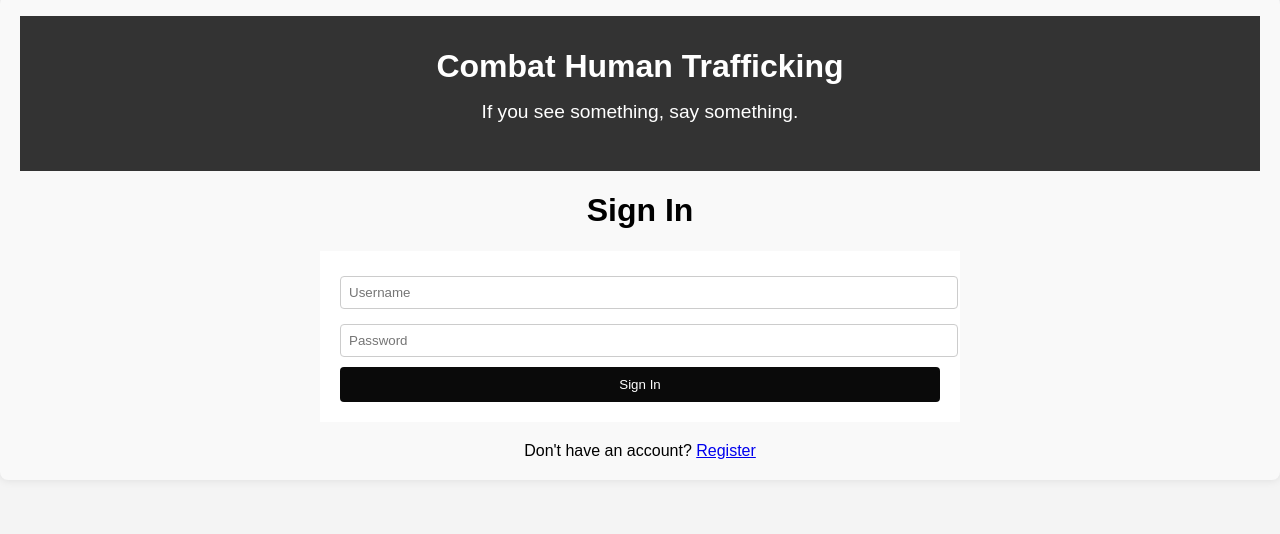
Test case: SignIn › shows error message on invalid credentials
Type "testuser" into the field with placeholder "Username" at (649, 292), box x1=340 y1=276 x2=958 y2=309
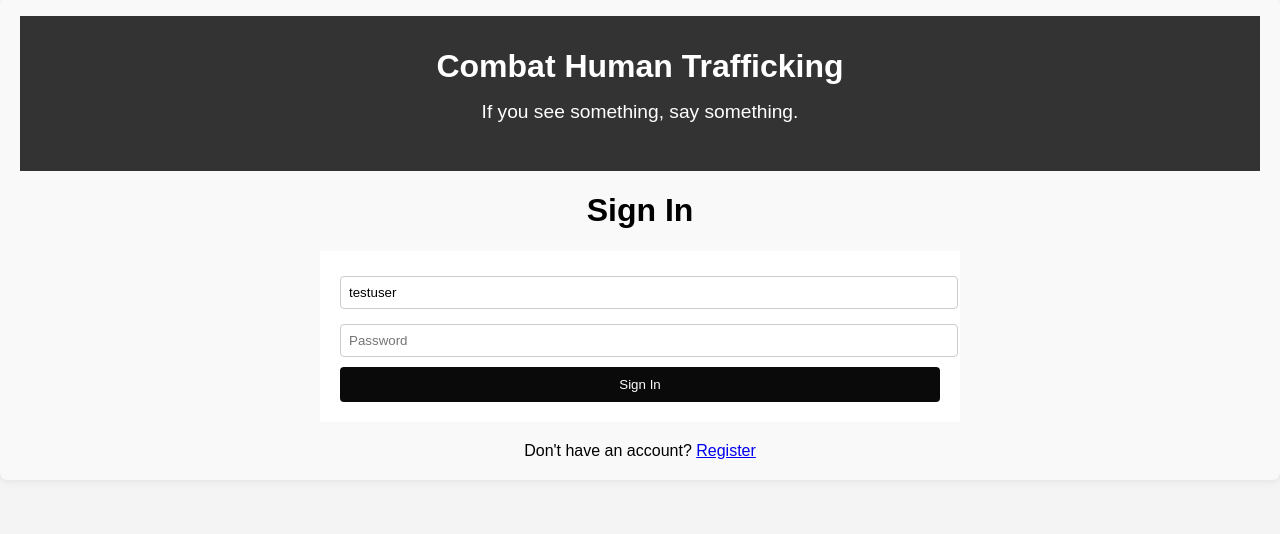
Type "password" into the password field with placeholder "Password" at (649, 340), box x1=340 y1=324 x2=958 y2=357
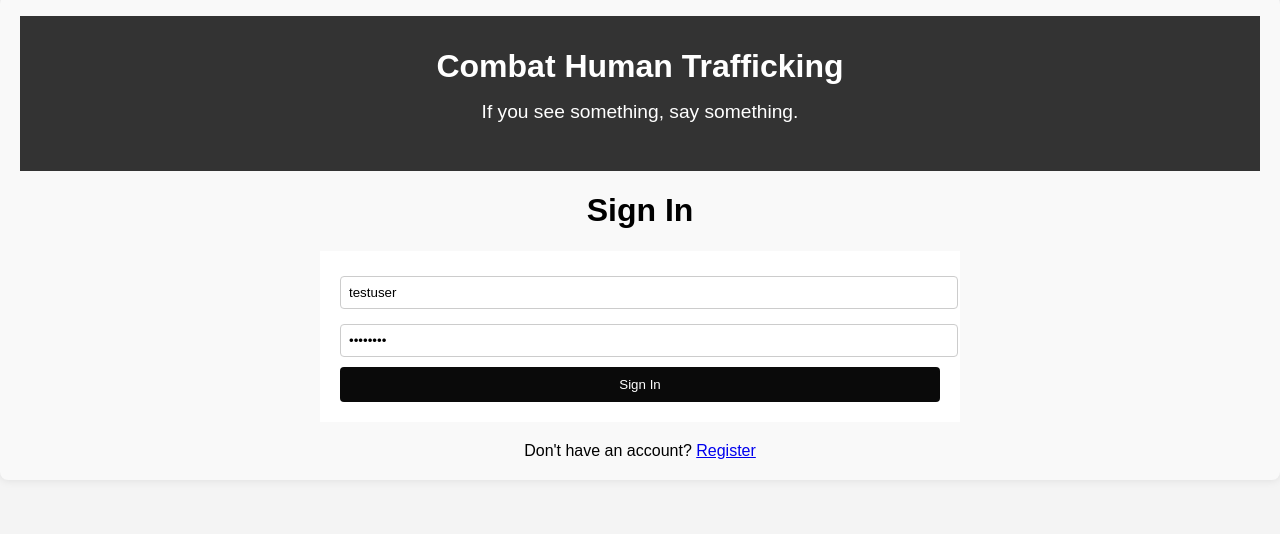
Click the button "Sign In" at (640, 384), box x1=340 y1=367 x2=940 y2=402
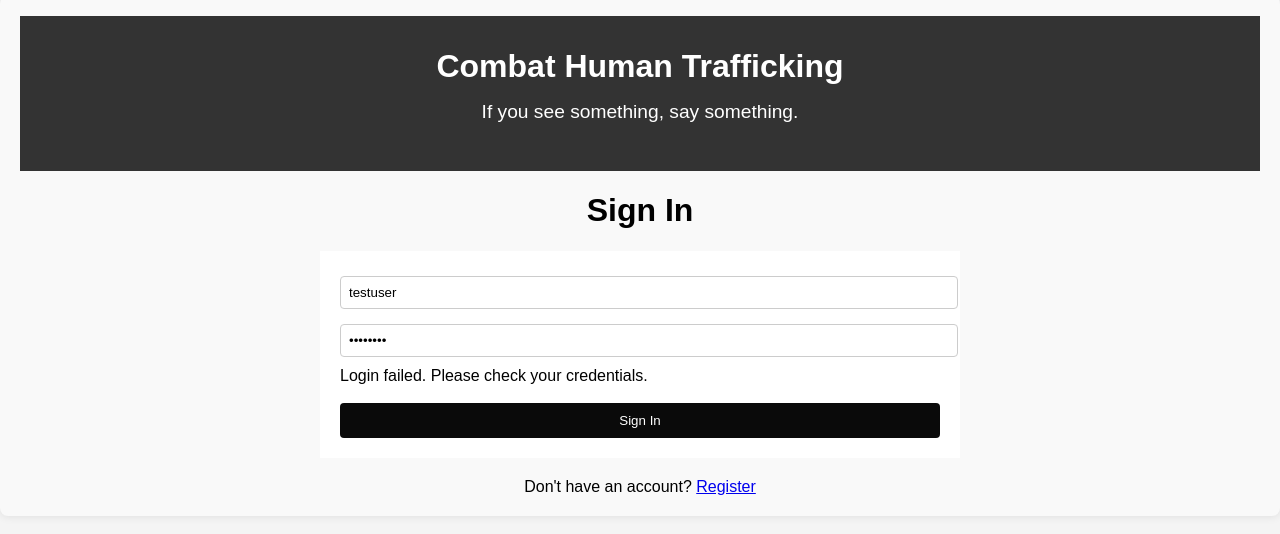
Check: the text "Login failed. Please check your credentials." is shown, box x1=340 y1=367 x2=648 y2=384
